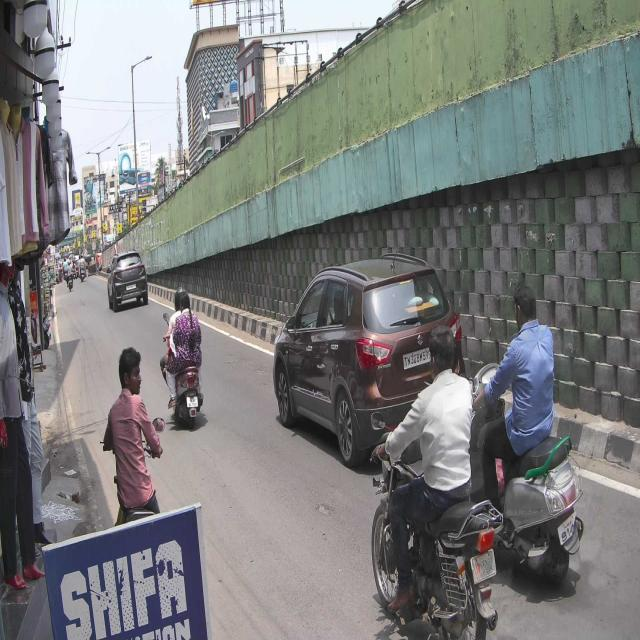double_rider: (160, 286, 207, 430)
single_rider: (371, 322, 493, 640), (496, 276, 584, 580)
